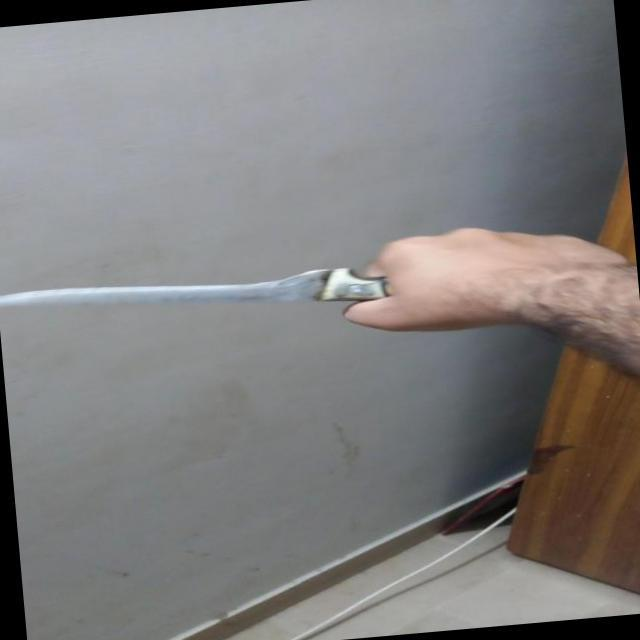Knife: (0, 250, 399, 347)
